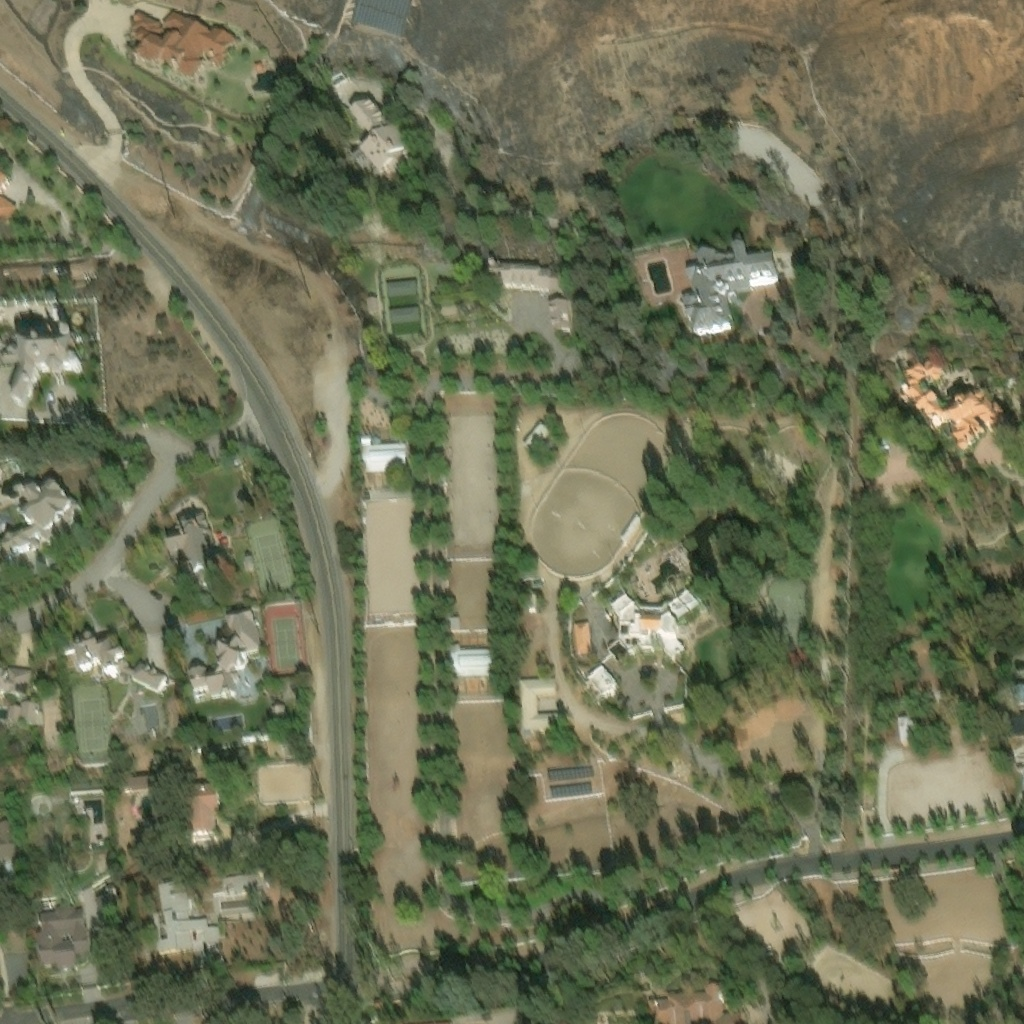0 no-damage: (682, 245, 779, 338), (131, 2, 234, 79), (187, 605, 259, 700), (0, 478, 81, 557), (899, 386, 1007, 445), (610, 588, 699, 658), (64, 632, 168, 691), (2, 329, 79, 407), (163, 501, 220, 592), (151, 881, 220, 952), (349, 122, 417, 186), (647, 983, 744, 1023), (763, 574, 808, 651), (34, 903, 88, 962), (205, 871, 267, 921), (0, 697, 62, 747), (904, 349, 979, 389), (515, 676, 560, 729), (175, 785, 220, 836), (347, 88, 390, 135), (489, 259, 558, 288), (351, 0, 409, 32), (71, 788, 104, 839), (0, 661, 38, 705), (359, 432, 405, 468), (448, 642, 497, 674), (128, 4, 164, 32), (589, 667, 619, 698), (522, 421, 550, 452), (548, 297, 572, 331), (245, 489, 273, 516), (544, 758, 590, 774), (547, 774, 588, 791), (1010, 685, 1023, 737), (116, 773, 153, 791), (94, 890, 118, 917), (0, 815, 15, 858), (895, 712, 915, 743), (389, 305, 419, 324), (575, 623, 592, 656), (386, 278, 416, 296), (600, 650, 619, 669), (362, 294, 378, 314), (36, 880, 56, 893), (49, 307, 66, 322), (136, 26, 150, 43), (445, 613, 459, 628), (42, 553, 54, 566), (103, 881, 115, 889)
4 un-classified: (462, 309, 478, 323), (124, 723, 137, 735)
